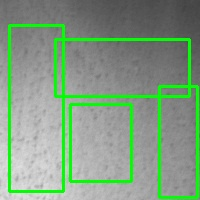pitted_surface: (9, 25, 63, 191), (55, 39, 189, 96), (70, 104, 131, 181), (159, 86, 197, 197)
